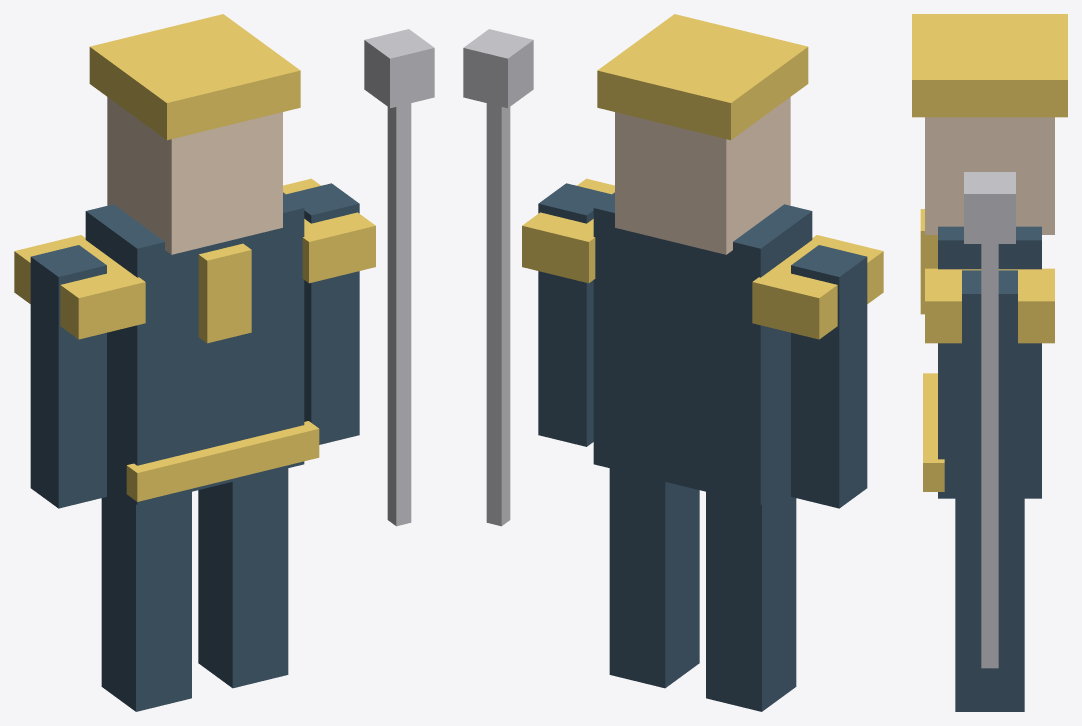
File: 08_bryn_gantryn_specialist_of_turret.glb
The picture shows the model from 3 angles, left to right: view 1: azimuth 30°, elevation 25°; view 2: azimuth 150°, elevation 25°; view 3: azimuth 270°, elevation 25°; orthographic projection.
Visible parts, largest first — view 1: Bryn Gantryn, Specialist of Turret; view 2: Bryn Gantryn, Specialist of Turret; view 3: Bryn Gantryn, Specialist of Turret.
Part boxes in pixels (x1=…): Bryn Gantryn, Specialist of Turret: x1=14, y1=14, x2=434, y2=711; Bryn Gantryn, Specialist of Turret: x1=463, y1=14, x2=883, y2=711; Bryn Gantryn, Specialist of Turret: x1=912, y1=14, x2=1067, y2=711.
Bounding box in the file's own units: 1.01 × 1.59 × 0.3569.
